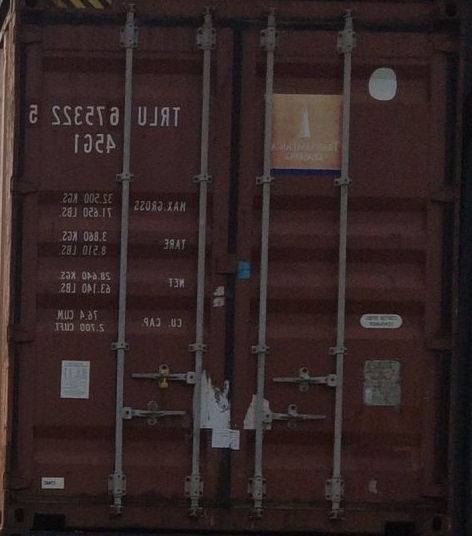container_door: (13, 13, 460, 524)
